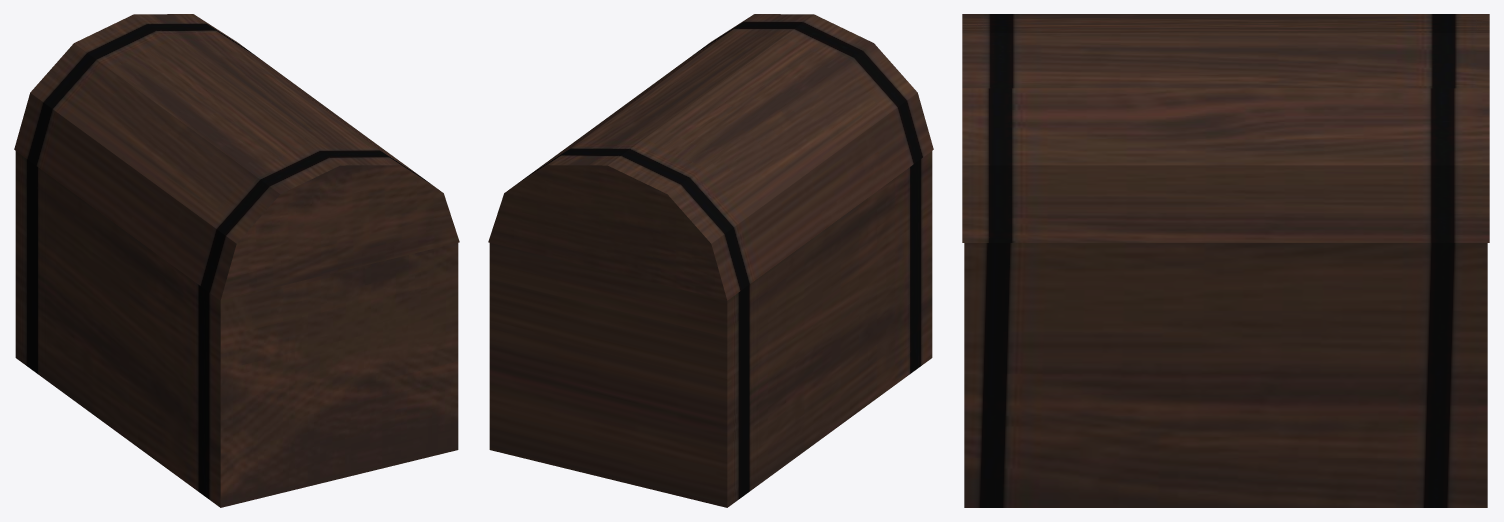
The model's file is Chest.fbx.
3 renders of one model, left to right at view 1: azimuth 30°, elevation 25°; view 2: azimuth 150°, elevation 25°; view 3: azimuth 270°, elevation 25°, orthographic. The views are drawn at different scales.
Parts seen in each view (by area): view 1: Cube, Cylinder; view 2: Cube, Cylinder; view 3: Cube, Cylinder.
Part boxes in pixels (<box>): Cube: <box>15,151,458,507</box>; Cylinder: <box>14,14,459,300</box>; Cube: <box>489,151,932,507</box>; Cylinder: <box>488,14,933,300</box>; Cube: <box>964,243,1487,507</box>; Cylinder: <box>962,14,1489,242</box>.
Size of the model in its own units: 241 by 302 by 360.
